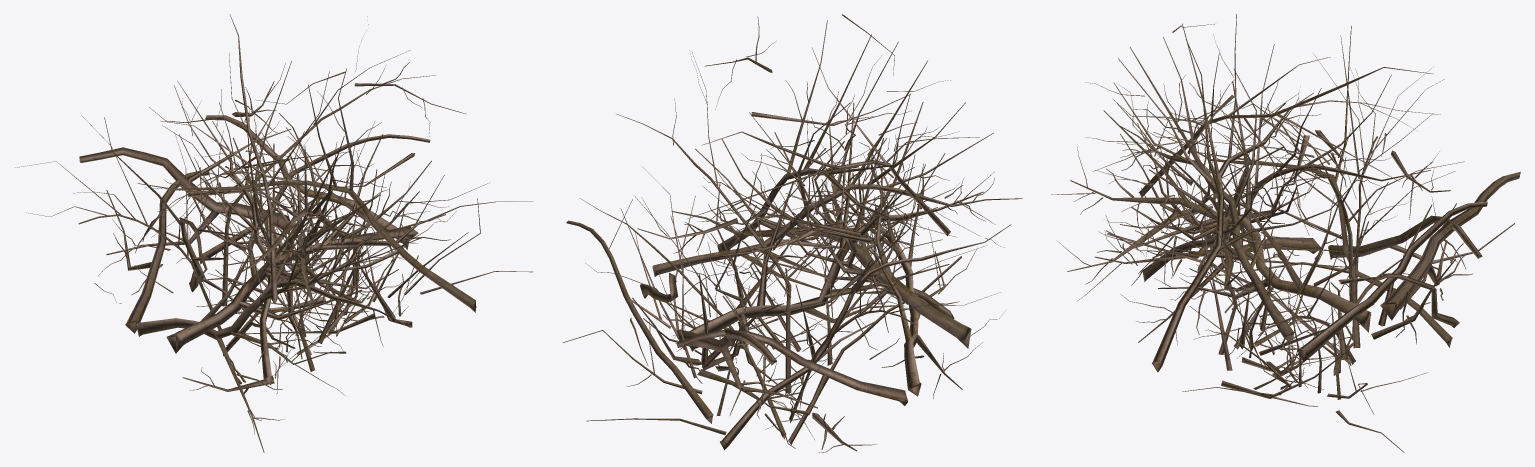
File: maple-detached-limbs.gltf
The picture shows the model from 3 angles, left to right: view 1: azimuth 30°, elevation 25°; view 2: azimuth 150°, elevation 25°; view 3: azimuth 270°, elevation 25°; orthographic projection. The views are drawn at different scales.
Visible parts, largest first — view 1: Maple_detached_limb_6, Maple_detached_limb_7, Maple_detached_limb_8, Maple_detached_limb_4, Maple_detached_limb_5, Maple_detached_limb_2, Maple_detached_limb_1, Maple_detached_limb_3; view 2: Maple_detached_limb_2, Maple_detached_limb_5, Maple_detached_limb_6, Maple_detached_limb_1, Maple_detached_limb_4, Maple_detached_limb_7, Maple_detached_limb_8, Maple_detached_limb_3; view 3: Maple_detached_limb_2, Maple_detached_limb_5, Maple_detached_limb_8, Maple_detached_limb_4, Maple_detached_limb_7, Maple_detached_limb_6, Maple_detached_limb_1, Maple_detached_limb_3.
Boxes of the visible parts, x1=… form: Maple_detached_limb_6: x1=135, y1=63, x2=450, y2=353; Maple_detached_limb_7: x1=106, y1=62, x2=465, y2=452; Maple_detached_limb_8: x1=137, y1=68, x2=476, y2=393; Maple_detached_limb_4: x1=145, y1=14, x2=444, y2=384; Maple_detached_limb_5: x1=79, y1=147, x2=425, y2=368; Maple_detached_limb_2: x1=131, y1=113, x2=418, y2=338; Maple_detached_limb_1: x1=14, y1=16, x2=533, y2=355; Maple_detached_limb_3: x1=94, y1=81, x2=430, y2=336; Maple_detached_limb_2: x1=630, y1=41, x2=1022, y2=448; Maple_detached_limb_5: x1=677, y1=102, x2=995, y2=439; Maple_detached_limb_6: x1=637, y1=126, x2=971, y2=348; Maple_detached_limb_1: x1=562, y1=50, x2=1000, y2=444; Maple_detached_limb_4: x1=649, y1=47, x2=954, y2=429; Maple_detached_limb_7: x1=676, y1=16, x2=982, y2=415; Maple_detached_limb_8: x1=643, y1=14, x2=959, y2=452; Maple_detached_limb_3: x1=566, y1=119, x2=1011, y2=449; Maple_detached_limb_2: x1=1085, y1=37, x2=1487, y2=375; Maple_detached_limb_5: x1=1051, y1=81, x2=1520, y2=359; Maple_detached_limb_8: x1=1146, y1=14, x2=1412, y2=406; Maple_detached_limb_4: x1=1131, y1=44, x2=1440, y2=389; Maple_detached_limb_7: x1=1058, y1=83, x2=1514, y2=345; Maple_detached_limb_6: x1=1121, y1=115, x2=1450, y2=316; Maple_detached_limb_1: x1=1107, y1=53, x2=1464, y2=452; Maple_detached_limb_3: x1=1112, y1=26, x2=1459, y2=347.
Size of the model in its own units: 557 by 421 by 477.
Materials: 1 (1 with a texture image).
